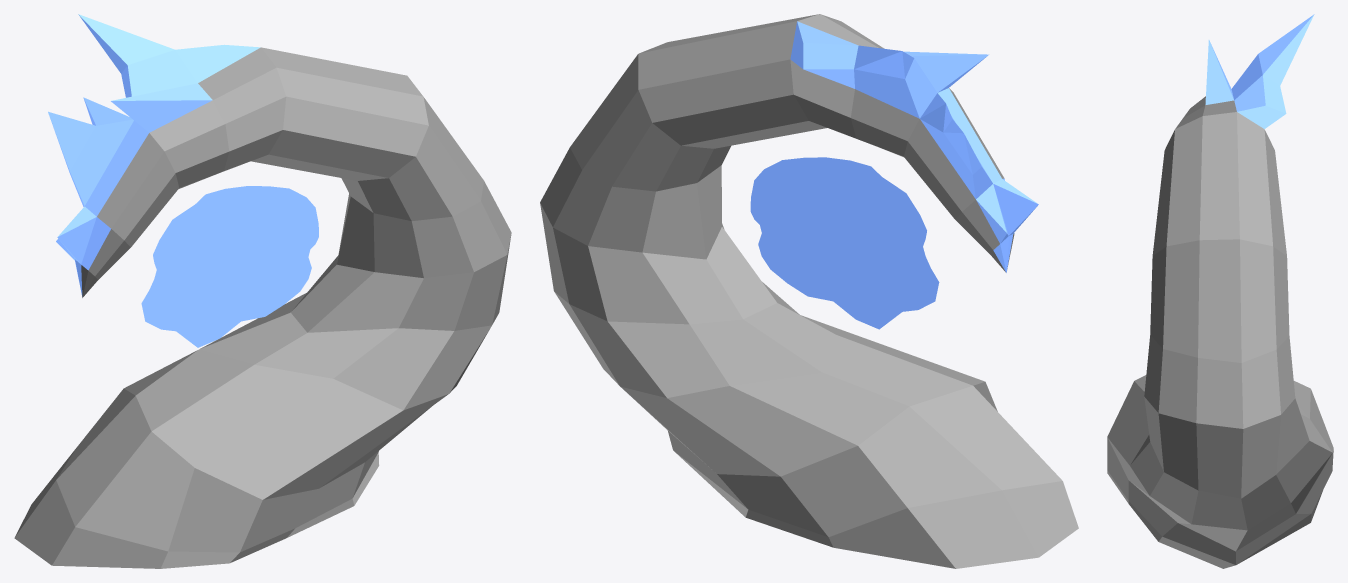
Rendered from lvl1SL.fbx.
3 renders of one model, left to right at view 1: azimuth 30°, elevation 25°; view 2: azimuth 150°, elevation 25°; view 3: azimuth 270°, elevation 25°, orthographic. The views are drawn at different scales.
Visible parts, largest first — view 1: lvl1; view 2: lvl1; view 3: lvl1.
Boxes of the visible parts, left/top/right/bottom form: lvl1: left=14, top=14, right=511, bottom=568; lvl1: left=540, top=14, right=1078, bottom=568; lvl1: left=1107, top=14, right=1333, bottom=568.
Size of the model in its own units: 402 by 385 by 179.
